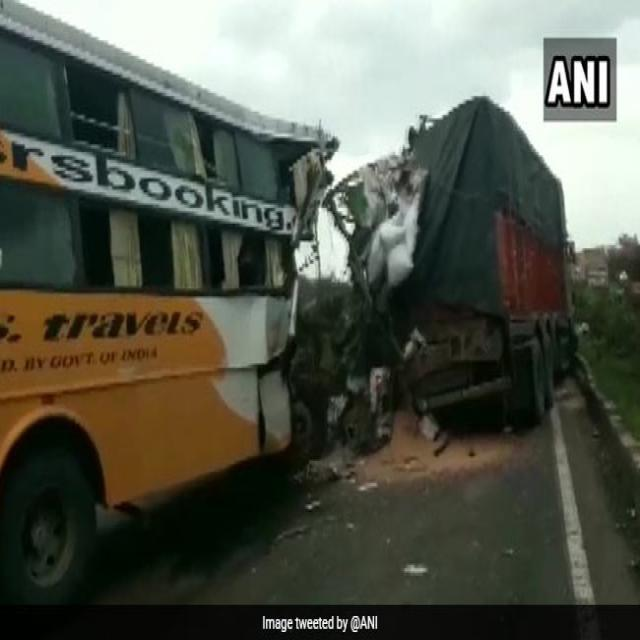accident: (0, 0, 336, 601), (325, 98, 570, 421)
